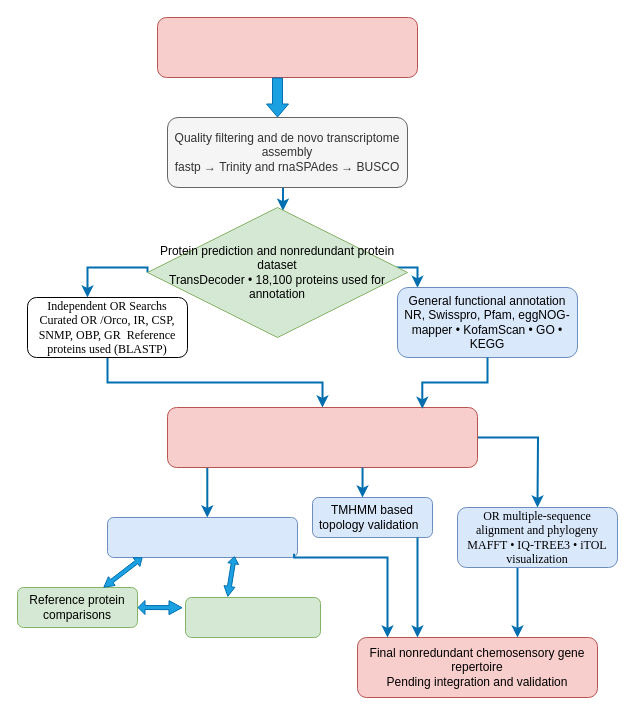
This 635x715 diagram has some shape labels left out. Here are the shapes that lost their labels. From the top down, the centre of each, then its label:
At point 287,47: "Illumina paired-end RNA-seq data A1-LJJ2889 • Coleoptera Holotrichia".
At point 322,437: "Targeted chemosensory protein discovery OR • IR • GR • SNMP • OBP • CSP".
At point 202,537: "Homology and conserved-domain validation".
At point 252,617: "Pfam domain evidence".
